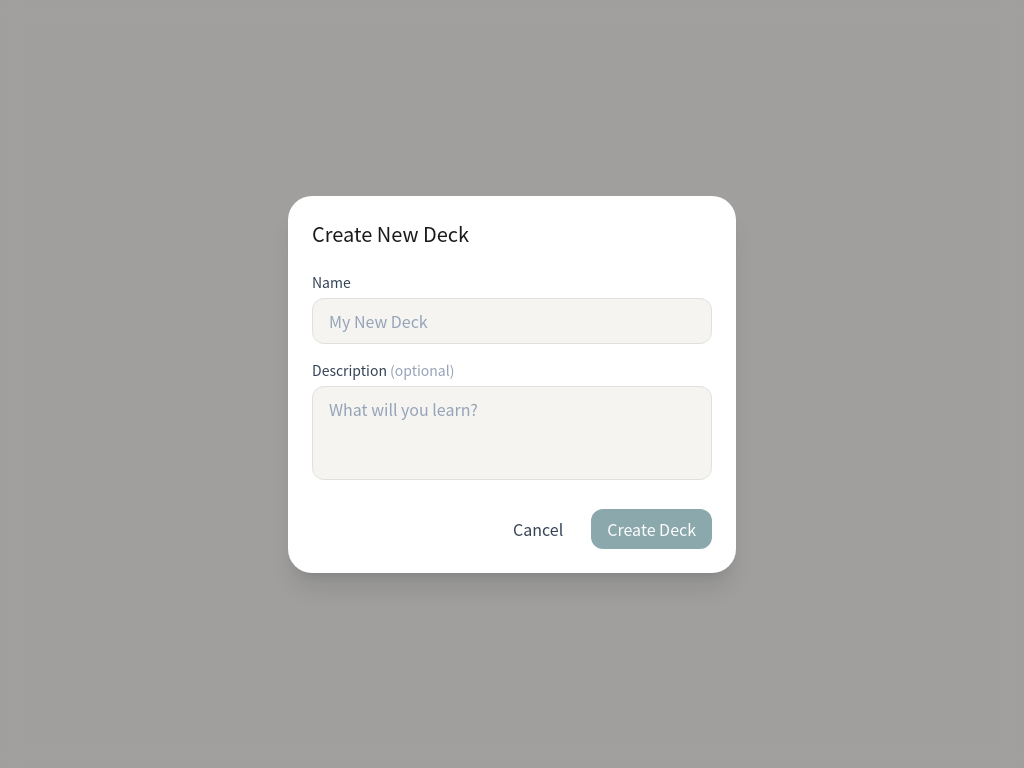
Test: CreateDeckModal › displays a generic error when the local write fails
In the field labelled "Name": (512, 320) [312,298,712,344], type "Test Deck"
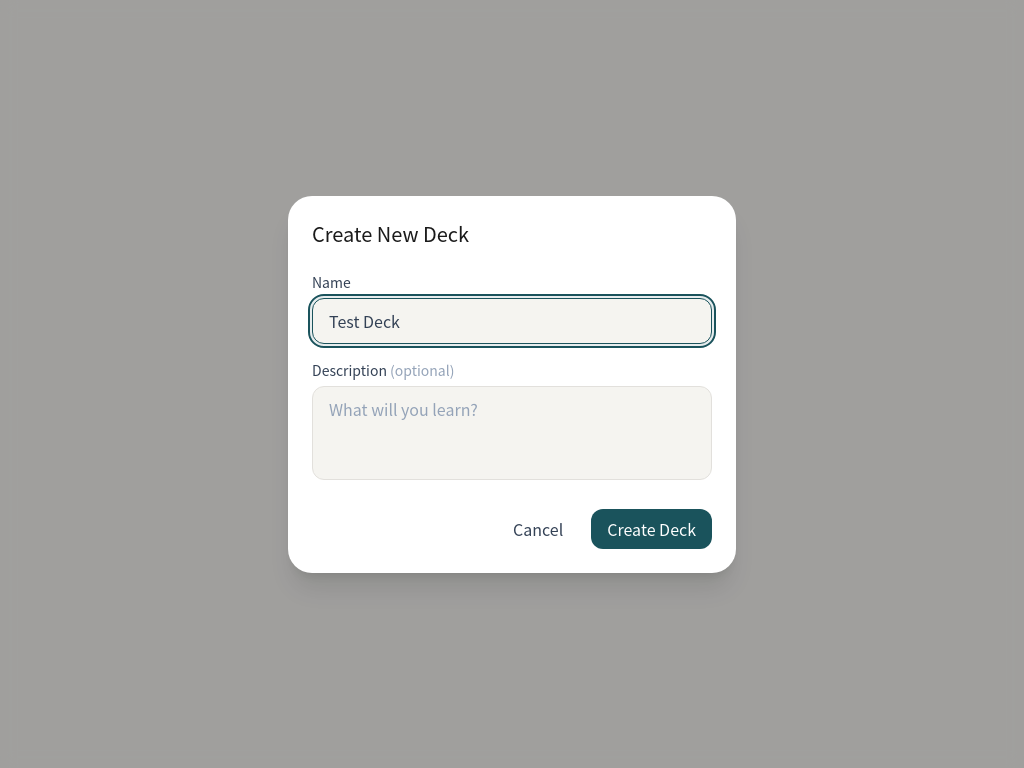
Click the button "Create Deck": (652, 528) [591,508,712,548]
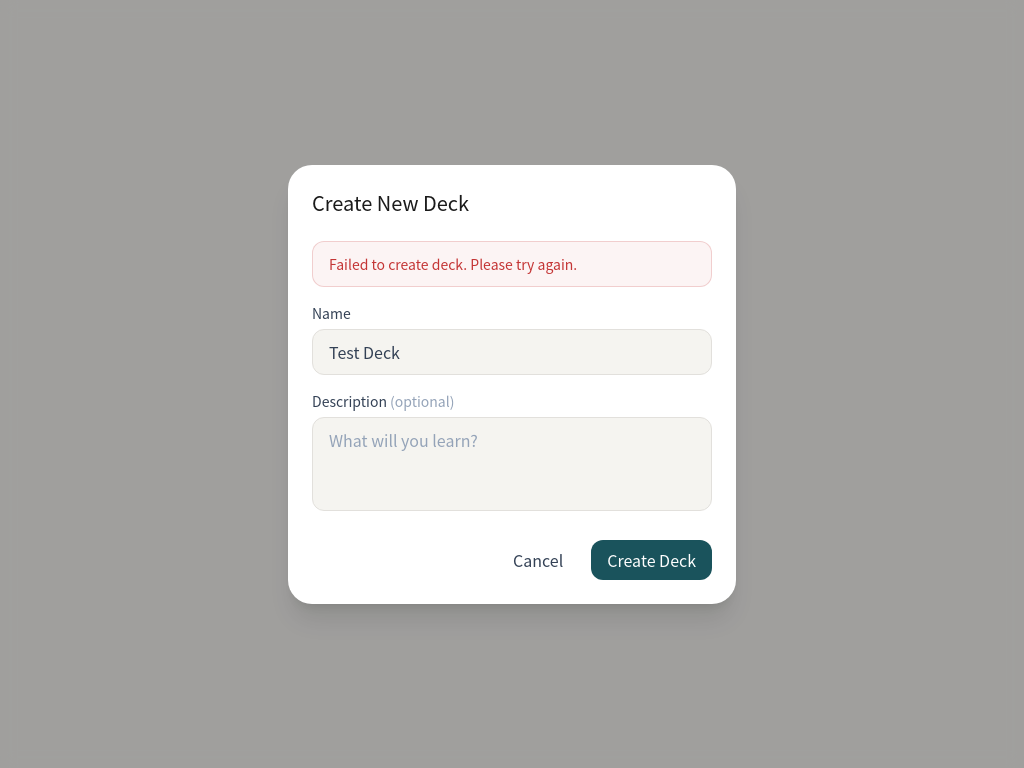
Result: the message reads "Failed to create deck. Please try again." at [329,254,577,274]
